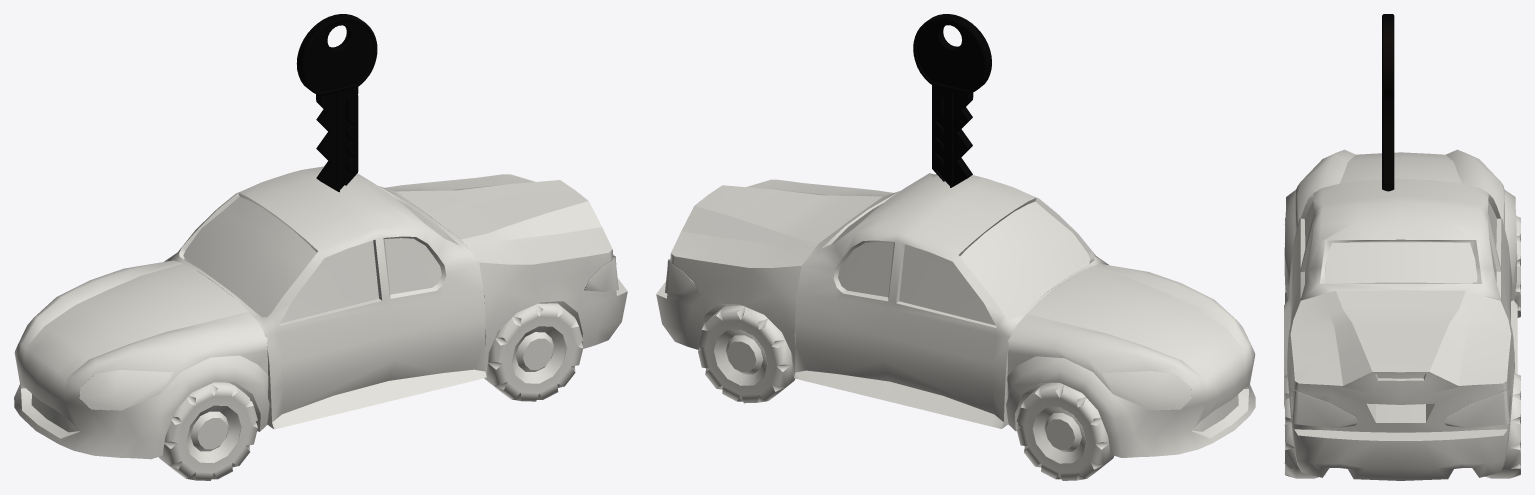
Rendered from asset6.glb.
3 views of the same model, side by side, from view 1: azimuth 30°, elevation 25°; view 2: azimuth 150°, elevation 25°; view 3: azimuth 270°, elevation 25° (orthographic). The views are drawn at different scales.
Visible parts, largest first — view 1: node_id54, node_id40, node_id34, node_id50, node_id73, node_id62, node_id66, node_id52, node_id42, node_id60, node_id64, node_id38; view 2: node_id54, node_id40, node_id34, node_id50, node_id73, node_id58, node_id48, node_id52, node_id44, node_id46, node_id56, node_id36; view 3: node_id34, node_id54, node_id40, node_id50, node_id73, node_id36, node_id38, node_id58, node_id62, node_id48, node_id52.
Boxes of the visible parts, x1=… form: node_id54: x1=164, y1=166, x2=486, y2=429; node_id40: x1=14, y1=260, x2=269, y2=459; node_id34: x1=384, y1=174, x2=627, y2=375; node_id50: x1=183, y1=196, x2=448, y2=317; node_id73: x1=296, y1=14, x2=377, y2=192; node_id62: x1=484, y1=303, x2=582, y2=401; node_id66: x1=158, y1=382, x2=257, y2=480; node_id52: x1=280, y1=240, x2=378, y2=323; node_id42: x1=80, y1=370, x2=173, y2=410; node_id60: x1=511, y1=326, x2=566, y2=383; node_id64: x1=186, y1=405, x2=241, y2=462; node_id38: x1=583, y1=255, x2=618, y2=291; node_id54: x1=794, y1=173, x2=1108, y2=428; node_id40: x1=1006, y1=264, x2=1255, y2=457; node_id34: x1=656, y1=179, x2=893, y2=376; node_id50: x1=832, y1=201, x2=1090, y2=319; node_id73: x1=913, y1=14, x2=991, y2=187; node_id58: x1=698, y1=306, x2=795, y2=403; node_id48: x1=1016, y1=383, x2=1113, y2=480; node_id52: x1=899, y1=244, x2=995, y2=325; node_id44: x1=1101, y1=371, x2=1191, y2=410; node_id46: x1=1032, y1=407, x2=1086, y2=463; node_id56: x1=714, y1=329, x2=767, y2=385; node_id36: x1=665, y1=259, x2=699, y2=294; node_id34: x1=1286, y1=290, x2=1514, y2=480; node_id54: x1=1284, y1=179, x2=1517, y2=408; node_id40: x1=1284, y1=149, x2=1517, y2=299; node_id50: x1=1324, y1=242, x2=1477, y2=282; node_id73: x1=1382, y1=14, x2=1394, y2=191; node_id36: x1=1443, y1=388, x2=1510, y2=428; node_id38: x1=1291, y1=388, x2=1358, y2=428; node_id58: x1=1485, y1=373, x2=1520, y2=478; node_id62: x1=1284, y1=374, x2=1325, y2=478; node_id48: x1=1514, y1=216, x2=1520, y2=317; node_id52: x1=1304, y1=201, x2=1496, y2=247.
Bounding box in the file's own units: 0.512 × 0.3423 × 0.192.
18 materials, 18 textured.
